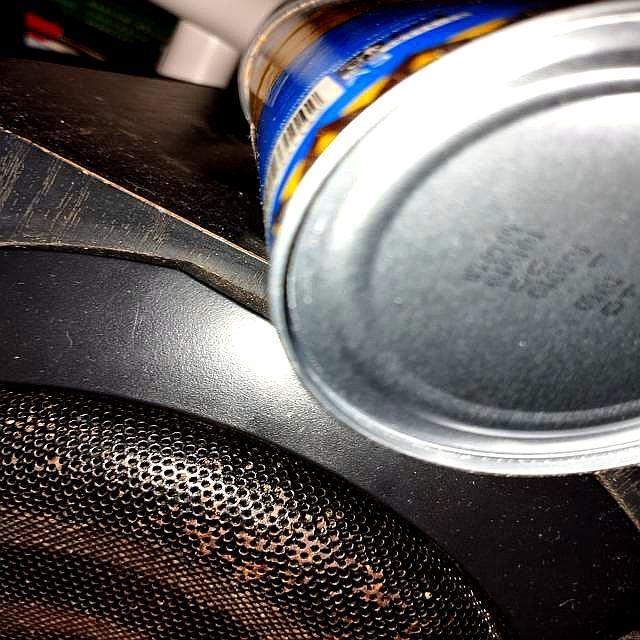Non-biodegradable: (231, 1, 640, 477)
